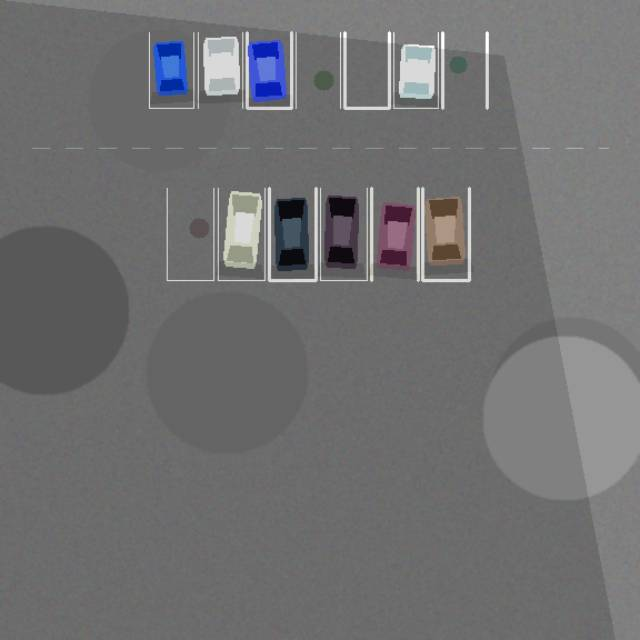space-empty: (167, 188, 213, 280), (344, 32, 389, 108), (442, 32, 487, 108), (296, 32, 340, 108)
space-occupied: (269, 188, 316, 280), (320, 188, 367, 280), (371, 188, 418, 280), (422, 188, 469, 280), (218, 188, 264, 280), (393, 32, 438, 108), (149, 32, 193, 108), (198, 32, 242, 108), (247, 32, 291, 108)
